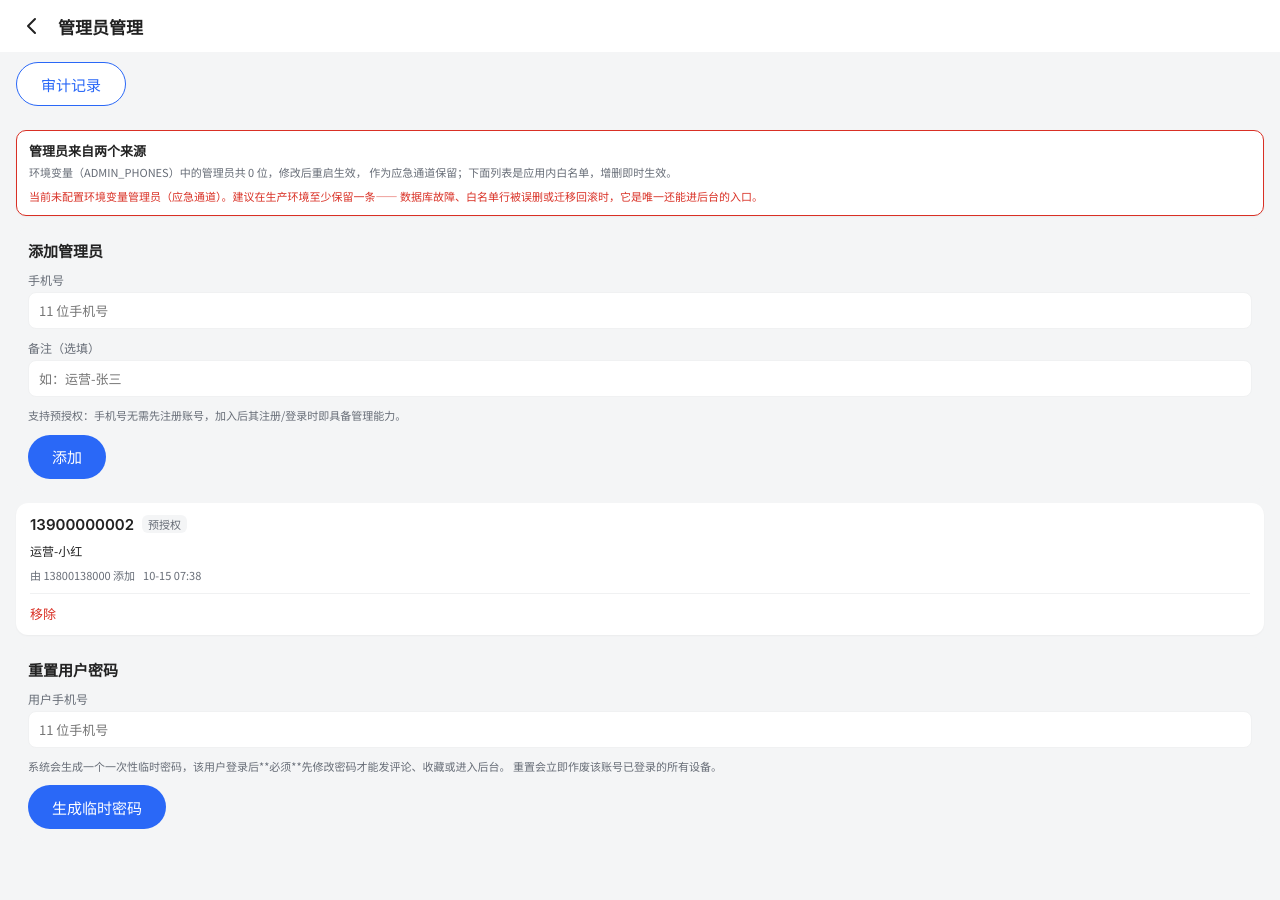
Test: views/AdminUsers › 末位保护（409）时错误横幅透出服务端文案，行保留
Click the button "移除" at (43, 613), box [30, 604, 56, 623]
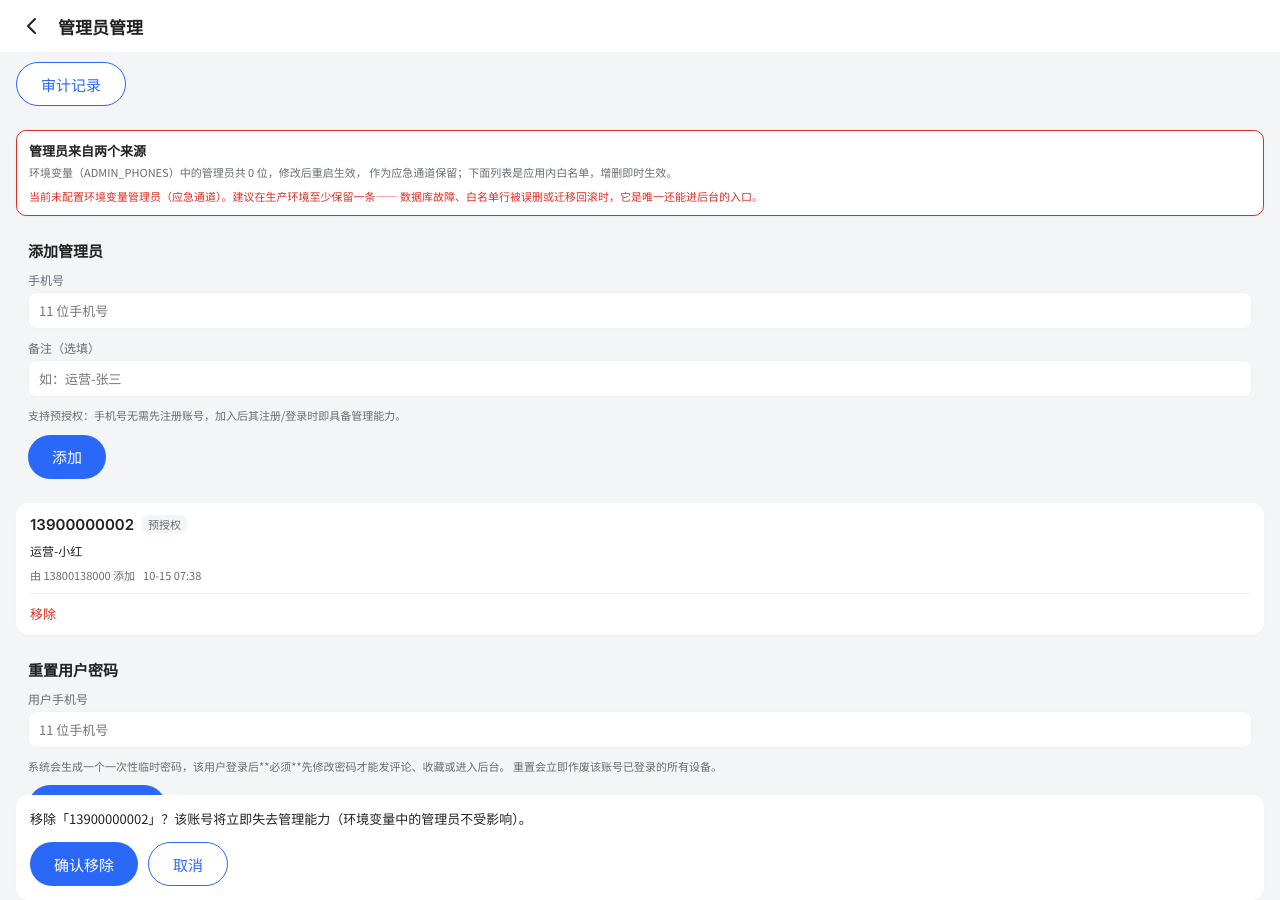
Click the button "确认移除" at (84, 864), box [30, 842, 138, 886]
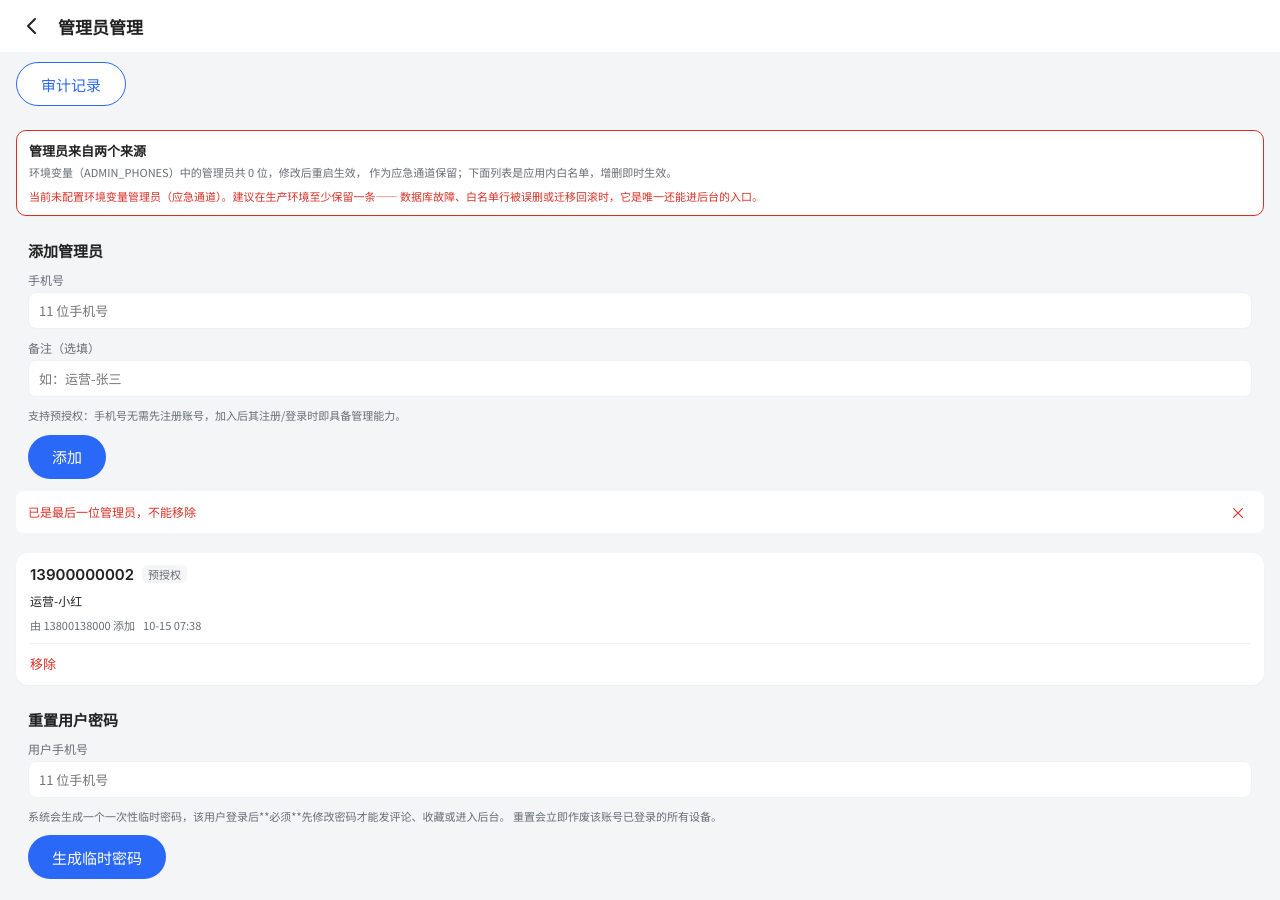
Expected: the text "13900000002" is shown, [30, 565, 134, 584]
Expected: the text "已是最后一位管理员，不能移除" is shown, [28, 503, 196, 520]
